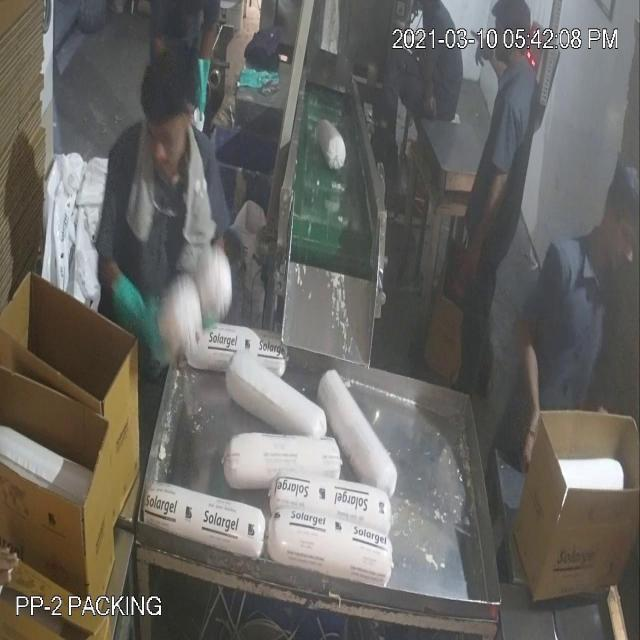No_Gloves: (37, 61, 532, 386)
